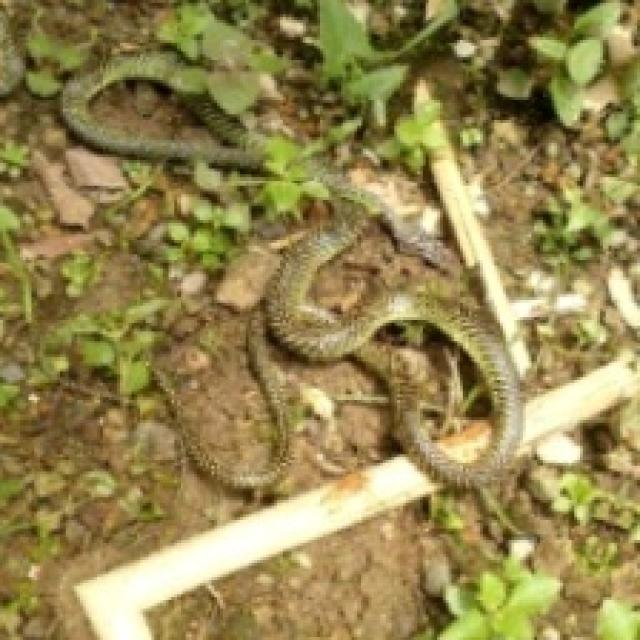paradise tree snake: (260, 174, 520, 483), (63, 54, 271, 166), (163, 320, 280, 463)
